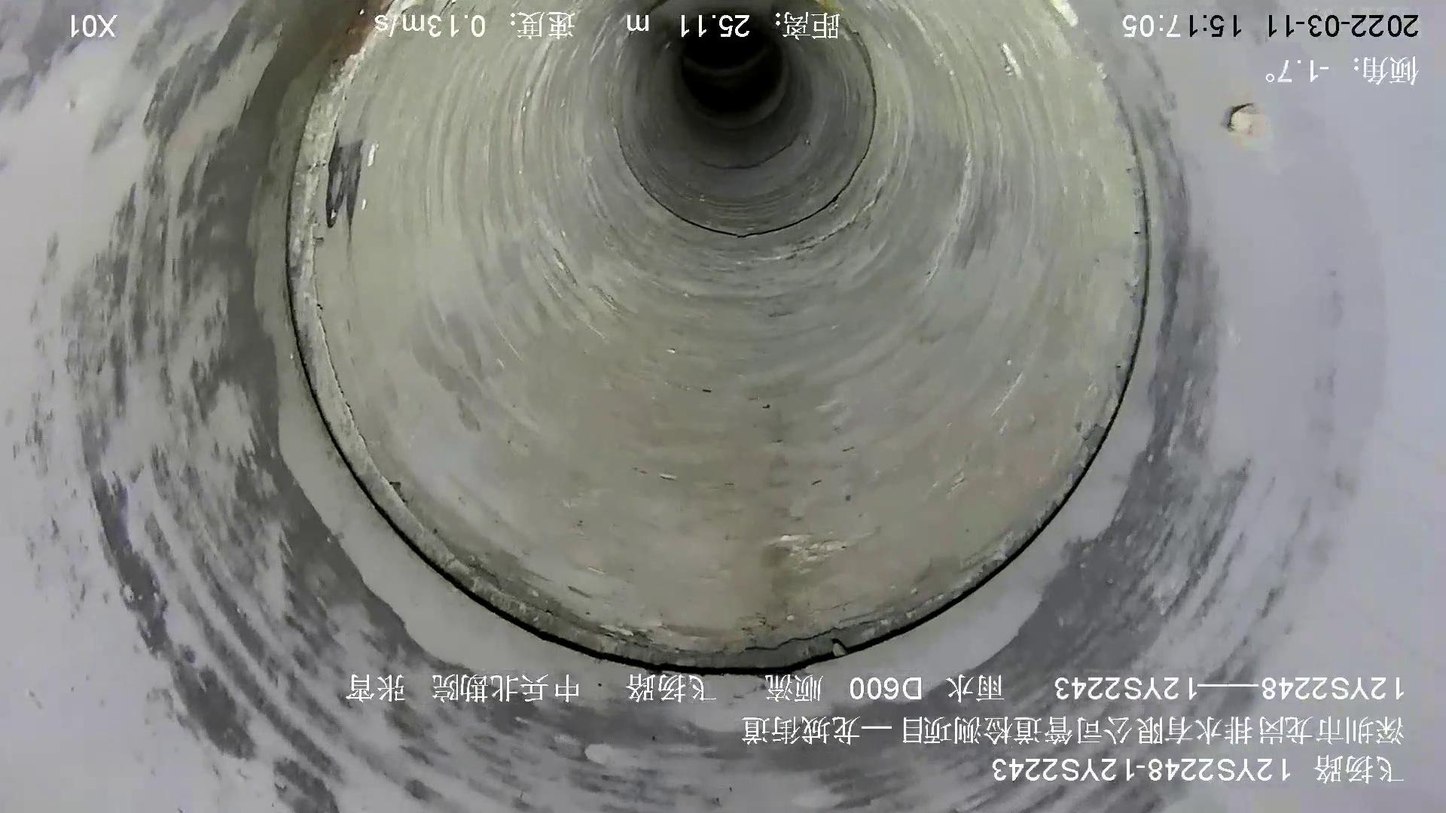CKTJ: (286, 1, 1152, 678), (607, 4, 882, 240)
